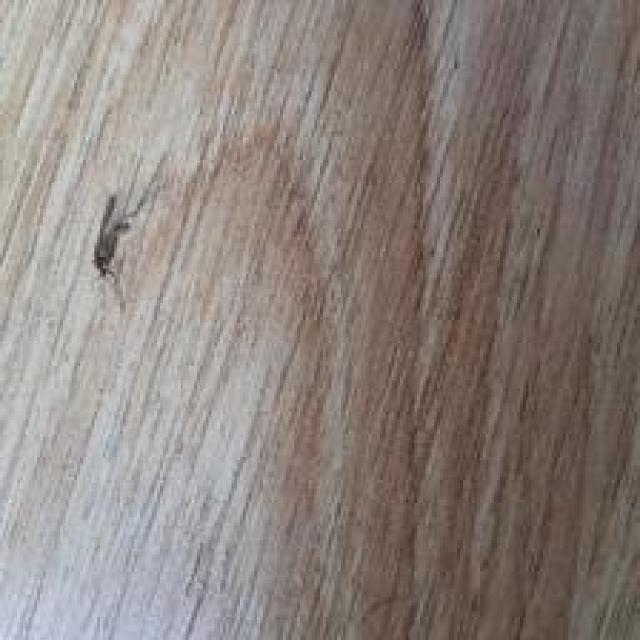Culex: (90, 147, 170, 279)
